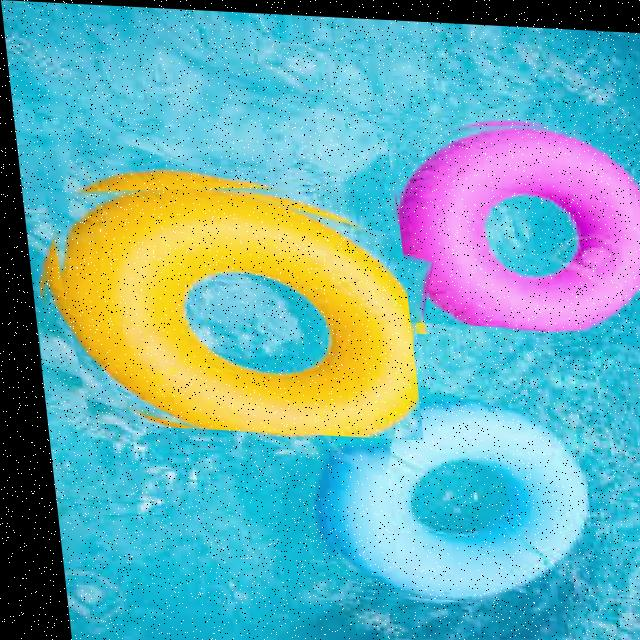litter: (52, 184, 408, 433), (392, 119, 640, 325), (312, 405, 574, 597)
